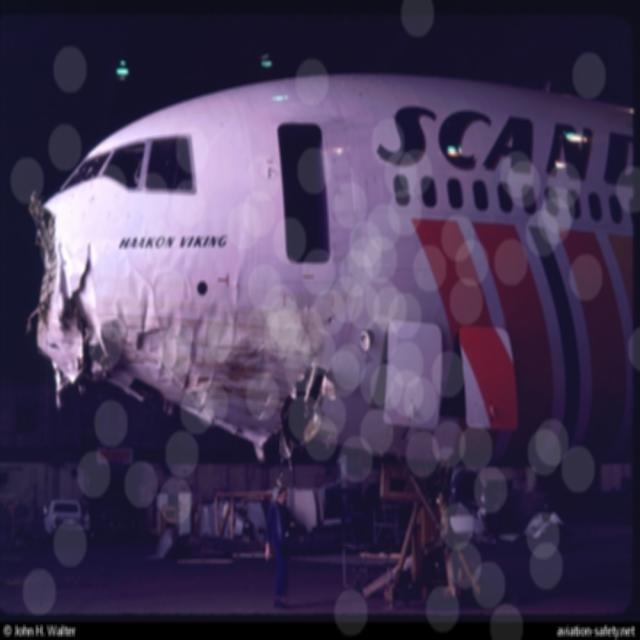crack: (68, 245, 95, 327)
dent: (139, 281, 160, 331)
